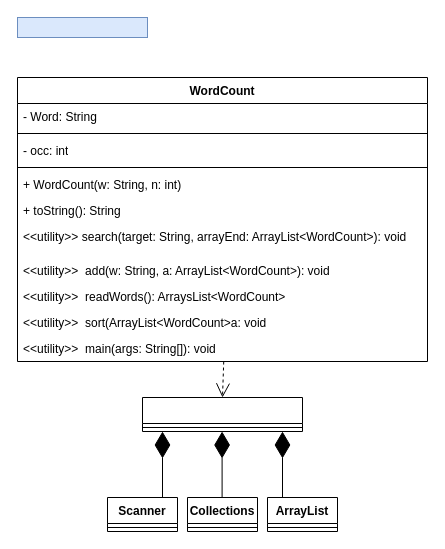
Image size: 445x549. Some labels were removed from this diagram. Here are the shapes that lost their labels. From the top down, the centre of each, then its label:
At (x=82, y=27): "UML Class Diagram".
At (x=222, y=414): "Java Util".
